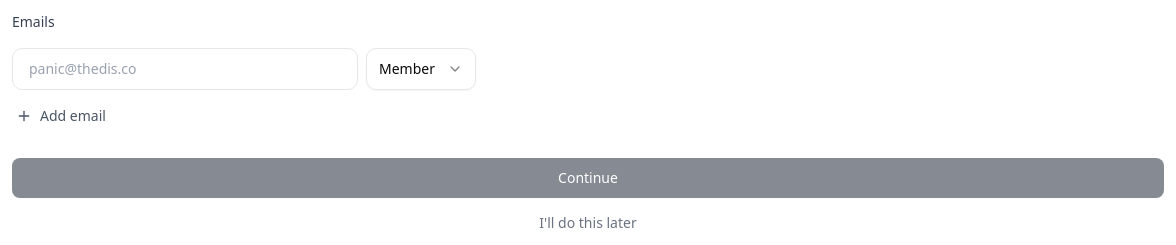
Test: InviteForm › allows selecting role for each invite
This screenshot has width=1176, height=245.
Click on the role selector
Step 1. Click the dropdown → (421, 69), box [366,48,476,90]
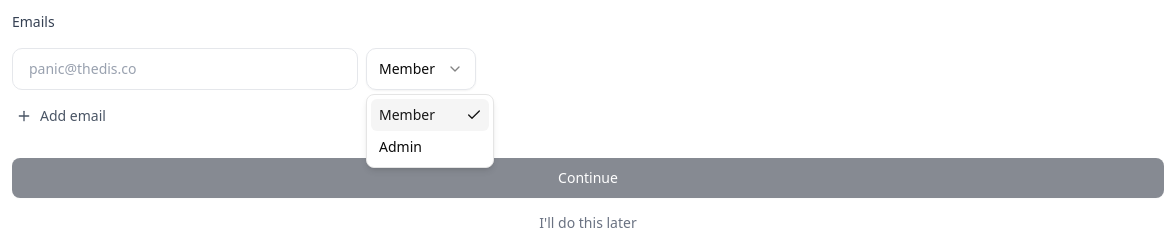
Select Admin role
Step 2. Click the option "Admin" → (400, 146), box [379,137,422,156]
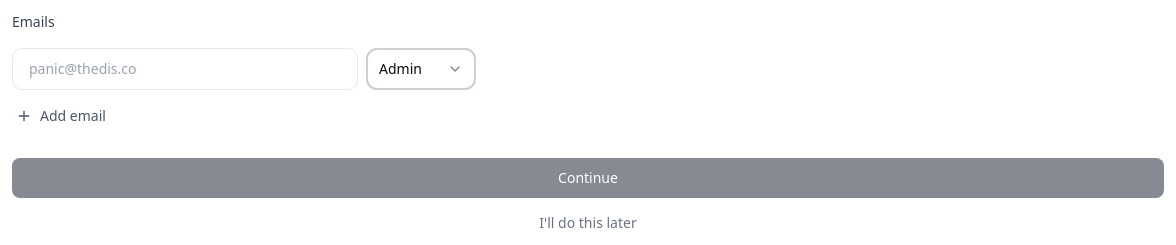
Result: the text "Admin" is shown at [379,59,422,79]
